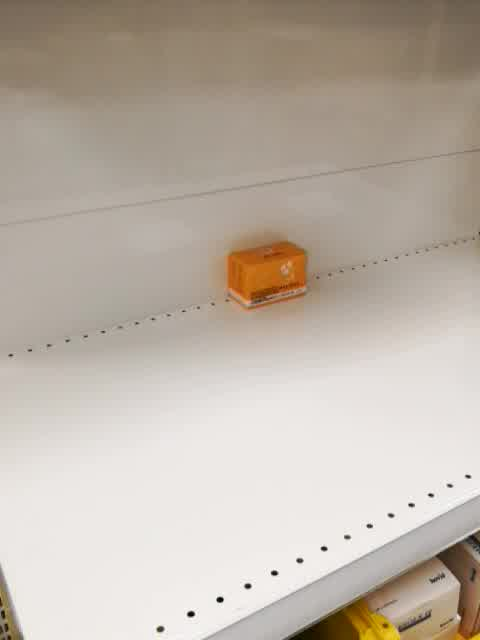jasminetea: (225, 240, 308, 310)
